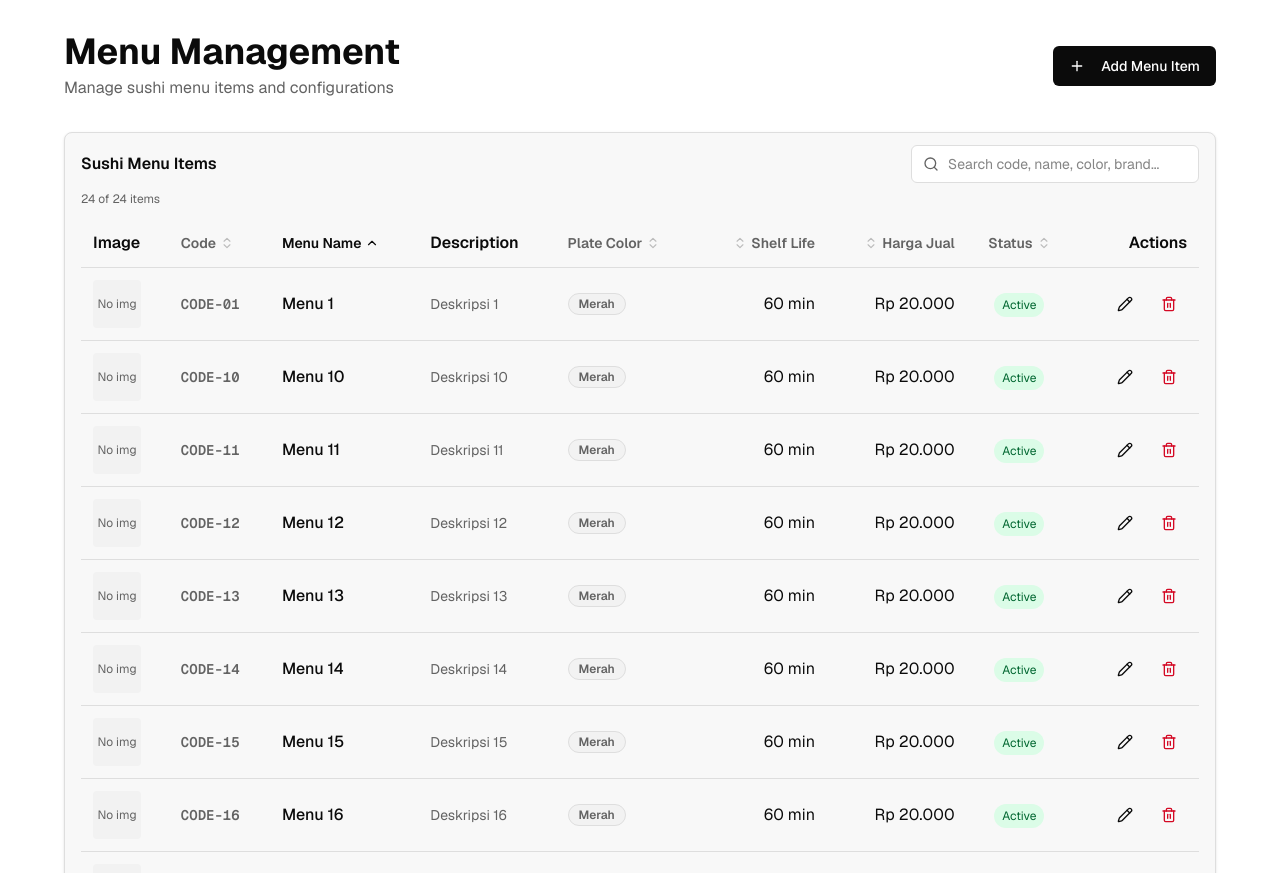
MenusAdmin — search › says so plainly when nothing matches
This screenshot has width=1280, height=873.
In the field with placeholder "Search code, name, color, brand...": (1055, 164) [911,145,1199,183], type "tidak ada apa pun"
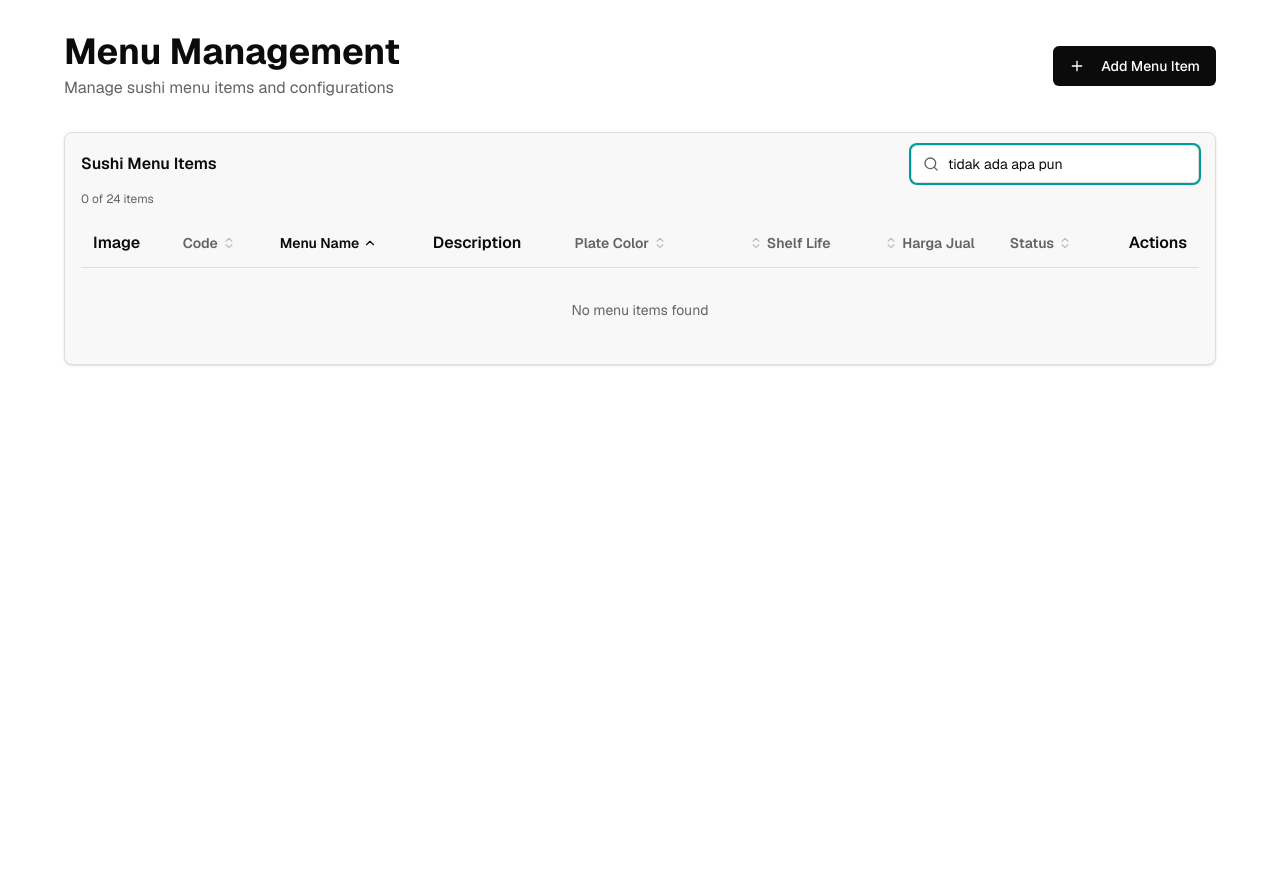
Now the text "No menu items found" is shown, box [81,268,1199,352]
Now the text "0 of 24 items" is shown, box [81,191,154,207]
